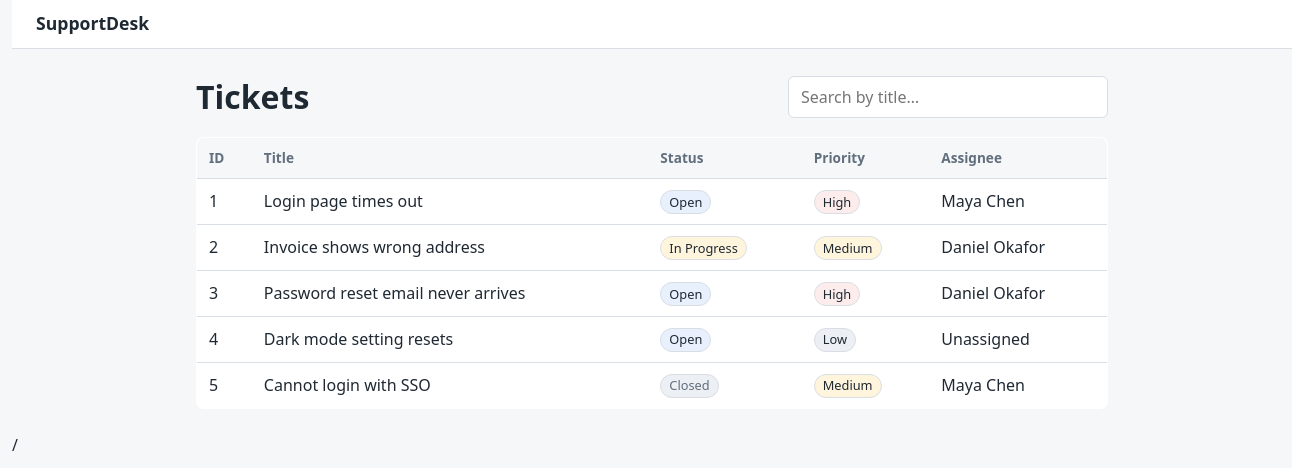
it: TicketList › keeps the search term in the URL and fetches matching tickets
Expected: the row with test id "ticket-row-1" is shown, [196,178,1108,224]
Type "login" into the search field with test id "search-input" at (948, 97), box [788,76,1108,118]
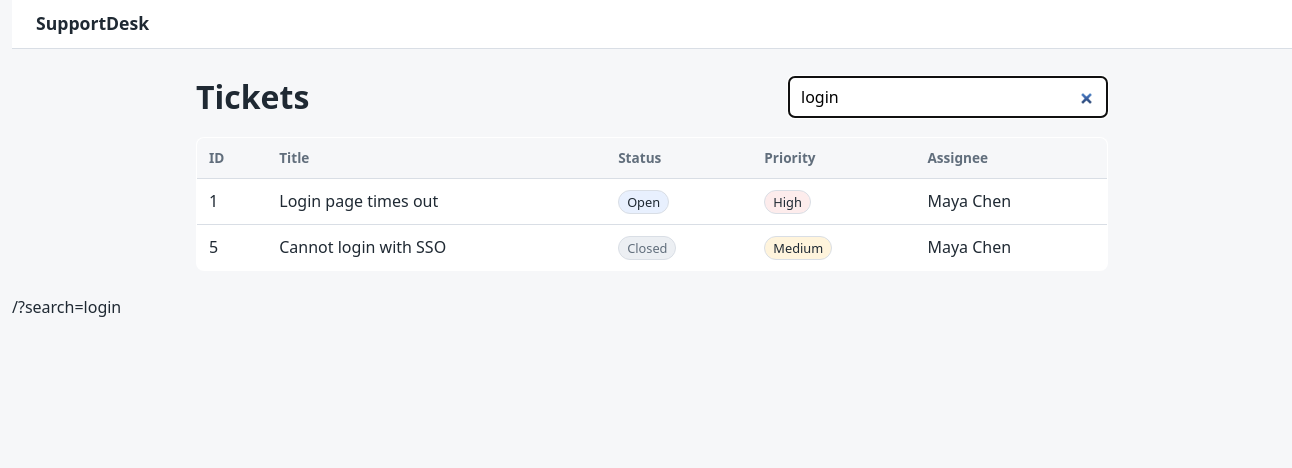
Expected: the row with test id "ticket-row-1" is shown, [196,178,1108,224]
Expected: the text with test id "location" reads "/?search=login", [12,296,121,318]
Expected: the row with test id "ticket-row-2" is gone
